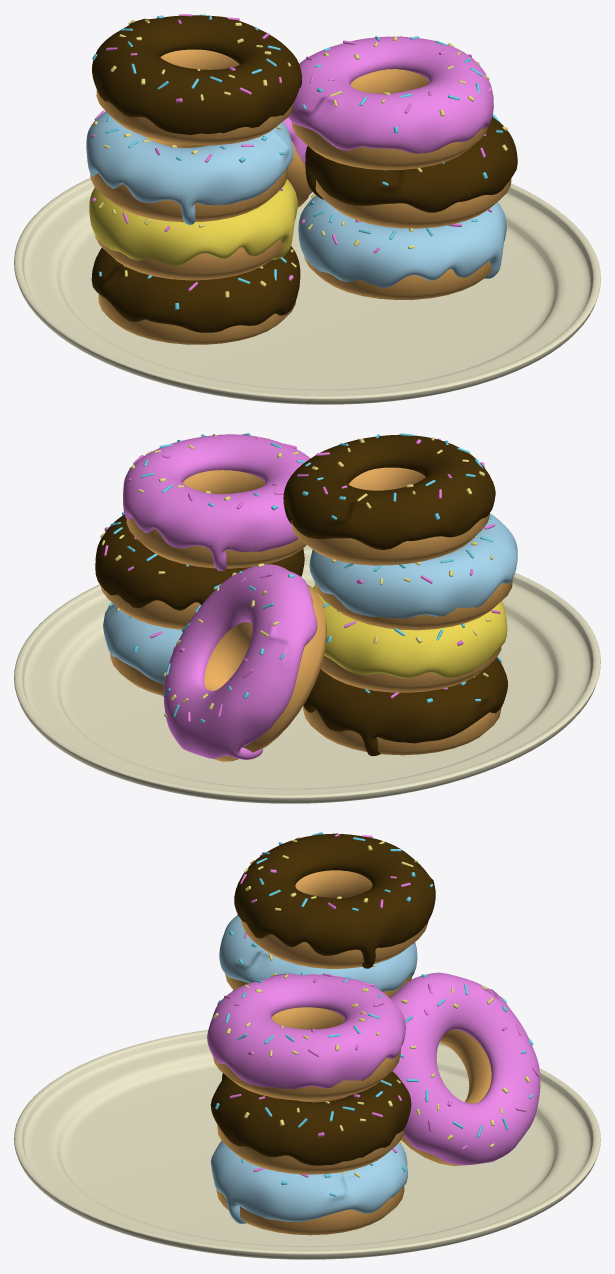
Rendered from just about1.glb.
3 renders of one model, top to bottom at view 1: azimuth 30°, elevation 25°; view 2: azimuth 150°, elevation 25°; view 3: azimuth 270°, elevation 25°, orthographic. The views are drawn at different scales.
Parts seen in each view (by area): view 1: Circle.001, Icing.004, Icing.006, Icing.003, Icing, Icing.001, Icing.005, Icing.002, Donut.006, Donut.004, Donut.005, Donut.003 (+4 smaller); view 2: Circle.001, Icing.007, Icing.004, Icing.006, Icing.003, Icing.001, Icing.002, Icing.005, Donut.004, Donut.007, Donut.006, Icing (+5 smaller); view 3: Circle.001, Icing.007, Icing.004, Icing.006, Icing.005, Icing, Icing.003, Donut.004, Donut.006, Donut, Donut.005, Donut.007.
Part boxes in pixels (left/top/right/bottom): Circle.001: left=14, top=178, right=600, bottom=404; Icing.004: left=92, top=15, right=301, bottom=134; Icing.006: left=288, top=36, right=493, bottom=153; Icing.003: left=86, top=111, right=293, bottom=224; Icing: left=298, top=195, right=506, bottom=288; Icing.001: left=91, top=246, right=300, bottom=332; Icing.005: left=305, top=117, right=517, bottom=212; Icing.002: left=89, top=179, right=297, bottom=266; Donut.006: left=291, top=69, right=488, bottom=170; Donut.004: left=96, top=49, right=293, bottom=145; Donut.005: left=315, top=178, right=511, bottom=228; Donut.003: left=90, top=137, right=287, bottom=222; Circle.001: left=14, top=545, right=600, bottom=803; Icing.007: left=163, top=564, right=317, bottom=759; Icing.004: left=283, top=434, right=495, bottom=549; Icing.006: left=123, top=434, right=310, bottom=571; Icing.003: left=309, top=513, right=517, bottom=618; Icing.001: left=303, top=657, right=507, bottom=756; Icing.002: left=313, top=586, right=507, bottom=678; Icing.005: left=95, top=515, right=304, bottom=610; Donut.004: left=291, top=467, right=489, bottom=565; Donut.007: left=204, top=584, right=326, bottom=761; Donut.006: left=126, top=470, right=306, bottom=568; Icing: left=103, top=603, right=182, bottom=683; Circle.001: left=14, top=1030, right=600, bottom=1259; Icing.007: left=390, top=972, right=540, bottom=1165; Icing.004: left=234, top=833, right=435, bottom=968; Icing.006: left=207, top=973, right=405, bottom=1089; Icing.005: left=210, top=1071, right=411, bottom=1165; Icing: left=210, top=1141, right=407, bottom=1223; Icing.003: left=219, top=915, right=417, bottom=991; Donut.004: left=241, top=870, right=428, bottom=968; Donut.006: left=213, top=1007, right=400, bottom=1100; Donut: left=216, top=1186, right=404, bottom=1235; Donut.005: left=217, top=1095, right=404, bottom=1174; Donut.007: left=401, top=1029, right=491, bottom=1165.
Size of the model in its own units: 4.14 by 2.14 by 4.45.
